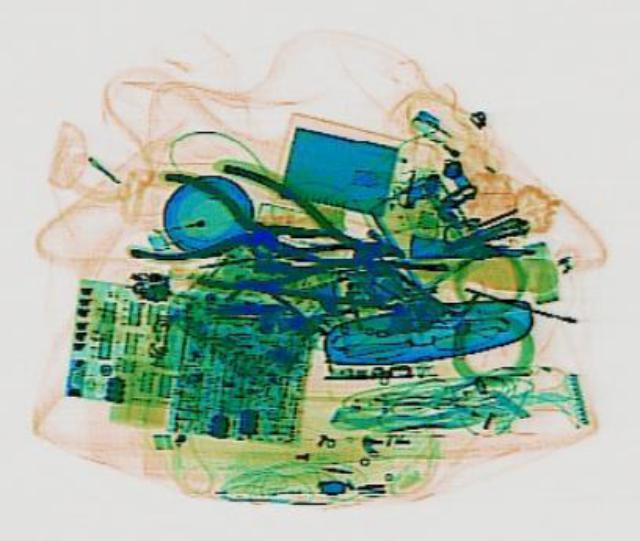Pliers: (184, 161, 420, 316), (123, 166, 333, 291)
